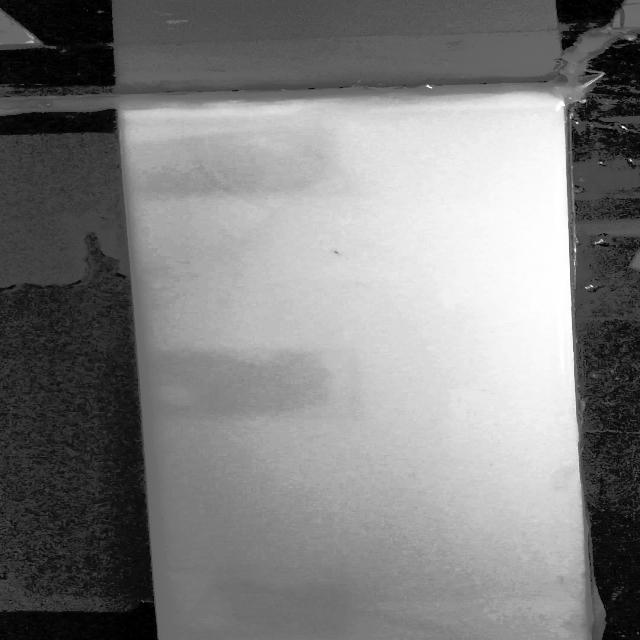shrimp: (326, 247, 350, 260)
